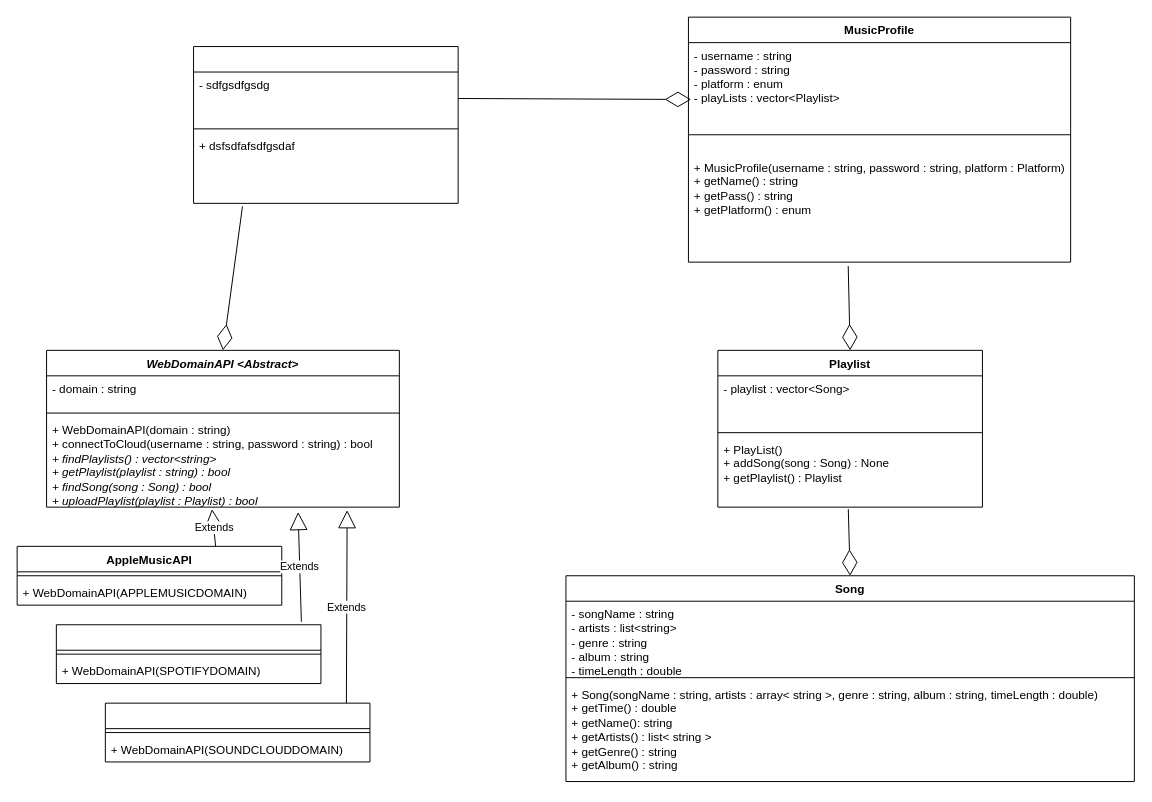
Image size: 1152x802. Some labels were removed from this diagram. The box of each missing label's shape, as (x1, y1, x2, y2) in pixels:
Converter: (193, 46, 458, 203)
SoundCloudAPI: (104, 702, 370, 762)
SpotifyAPI: (55, 624, 321, 684)
